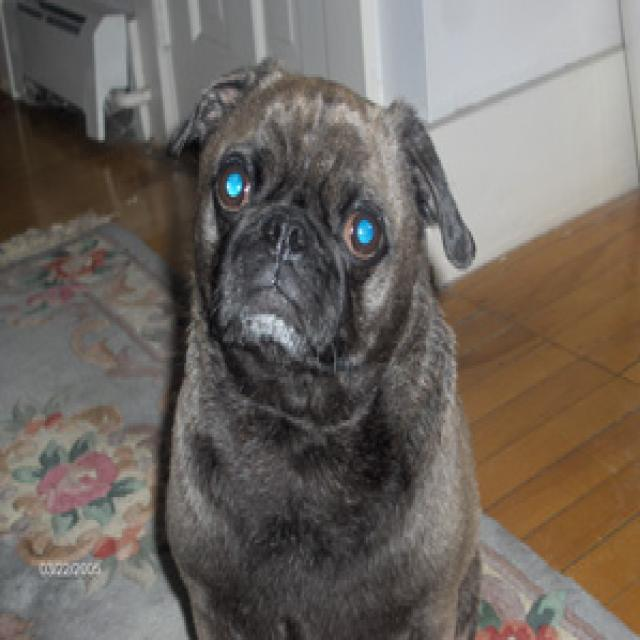dog: (171, 57, 471, 369)
